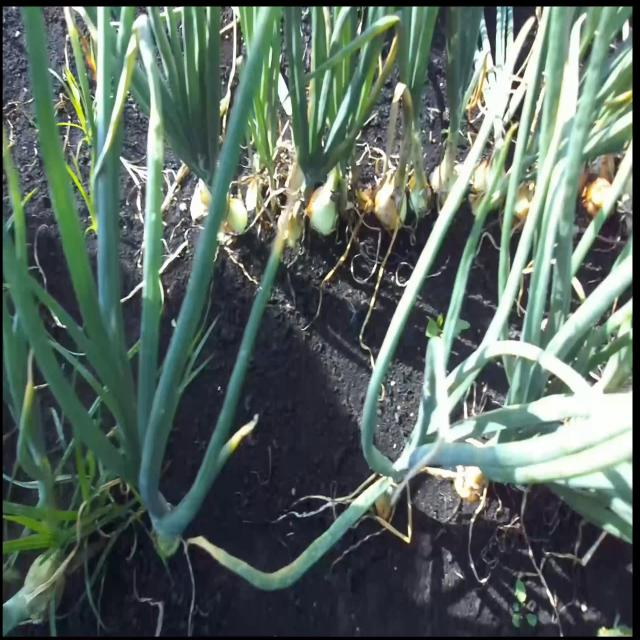onion: (308, 180, 344, 243), (370, 173, 408, 231), (472, 162, 505, 218)
